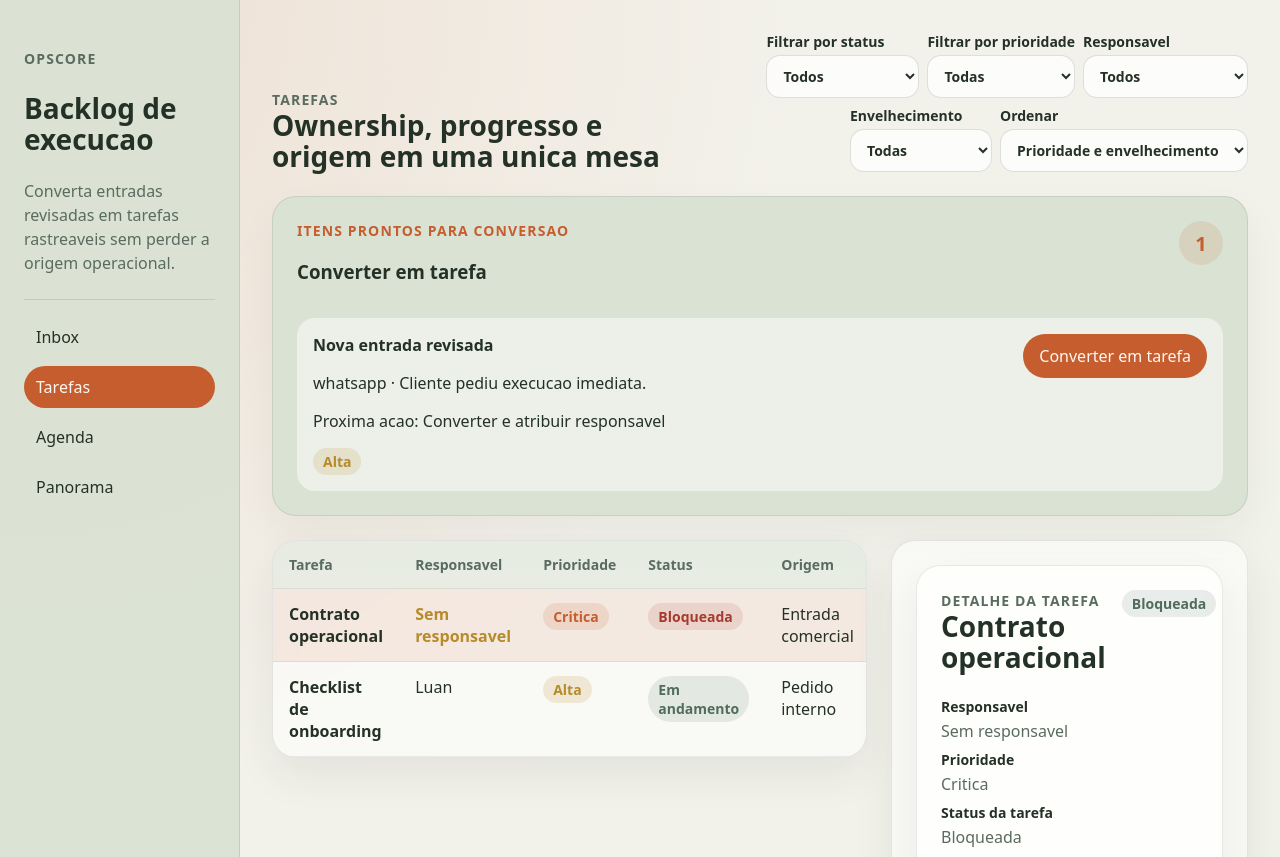
Test: execution workspace shell › selects a task and refreshes the detail panel
Click the text "Checklist de onboarding": click(336, 709) top-left (273, 662), bottom-right (399, 757)
(page scrolled)
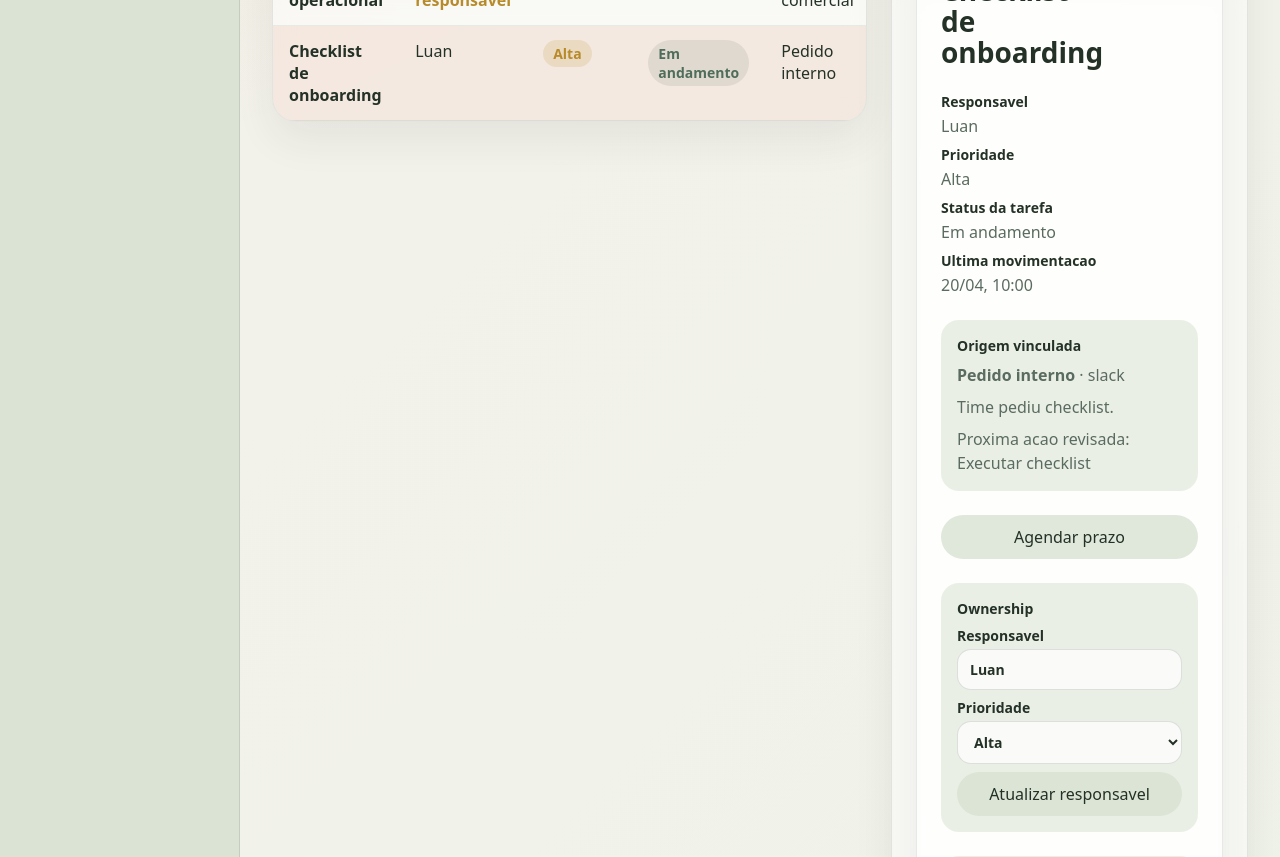
Expected: the text "Proxima acao revisada: Executar checklist" is shown, top-left (957, 428), bottom-right (1130, 474)
